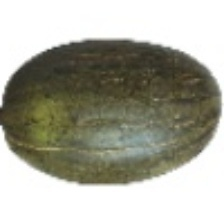honeydew: (11, 19, 203, 187)
